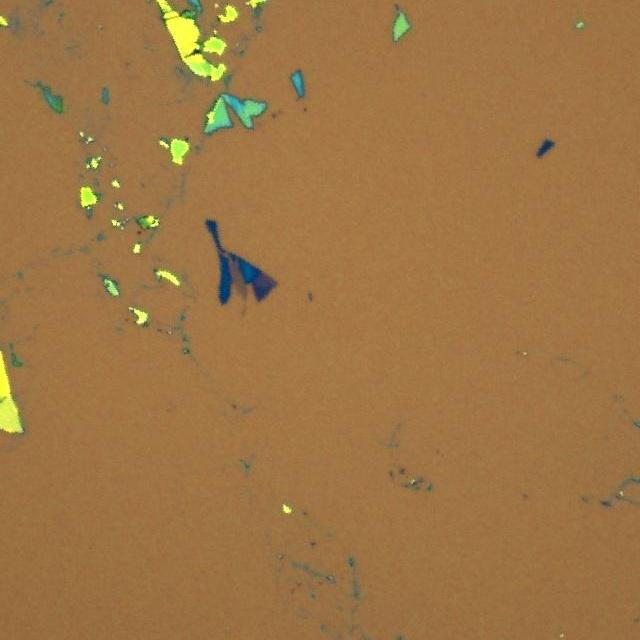monolayer-eWW4: (228, 252, 248, 298)
